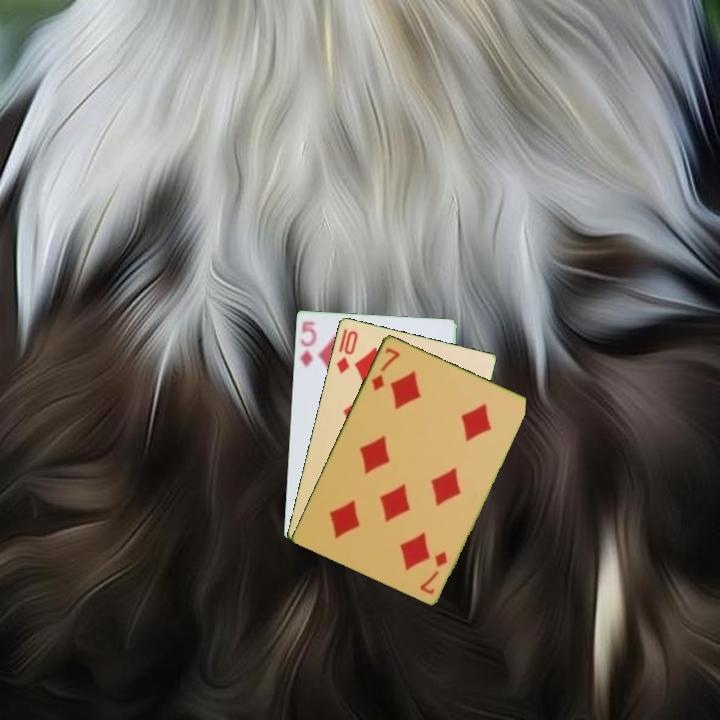10d: (332, 325, 361, 377)
5d: (296, 317, 319, 369)
7d: (368, 344, 403, 393), (417, 547, 450, 597)
